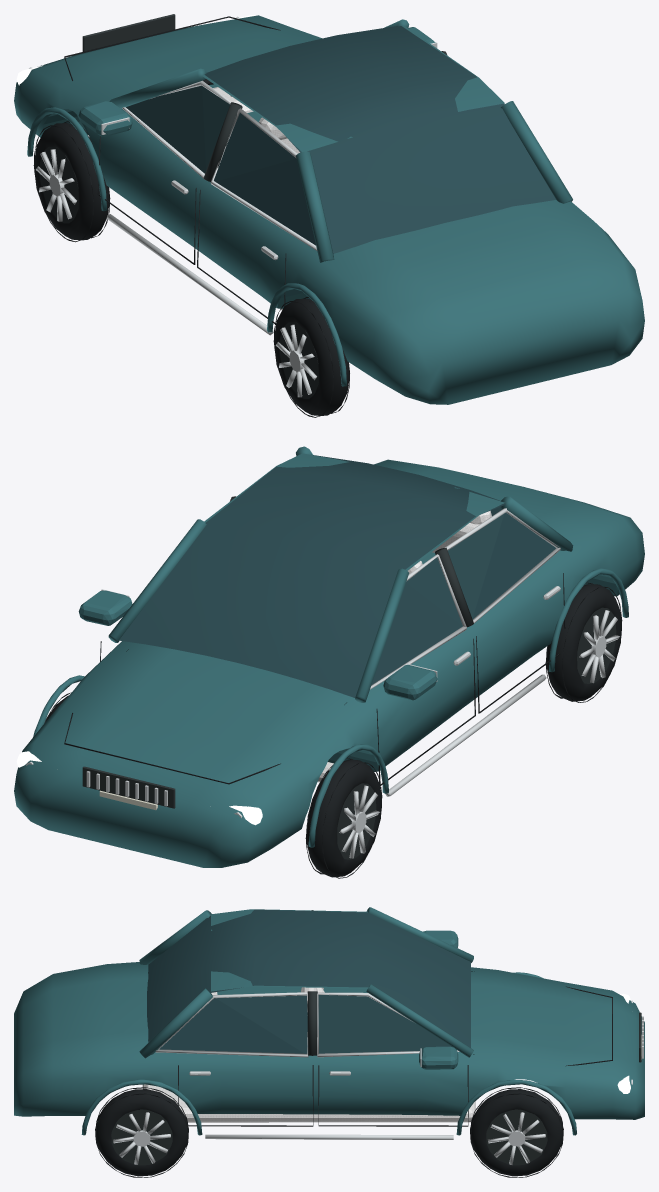
Rendered from sedan_lod1.glb.
3 renders of one model, top to bottom at view 1: azimuth 30°, elevation 25°; view 2: azimuth 150°, elevation 25°; view 3: azimuth 270°, elevation 25°, orthographic. The views are drawn at different scales.
Parts seen in each view (by area): view 1: sedan_body.001, wheel_rear_left.001, wheel_front_left.001; view 2: sedan_body.001, wheel_front_left.001, wheel_rear_left.001; view 3: sedan_body.001, wheel_front_right.001, wheel_rear_right.001.
Boxes of the visible parts, x1,y1,x2,y2 form: sedan_body.001: (14, 14, 644, 404); wheel_rear_left.001: (273, 297, 349, 417); wheel_front_left.001: (33, 121, 110, 242); sedan_body.001: (14, 446, 644, 867); wheel_front_left.001: (305, 758, 382, 878); wheel_rear_left.001: (545, 582, 622, 702); sedan_body.001: (14, 907, 644, 1139); wheel_front_right.001: (470, 1087, 563, 1177); wheel_rear_right.001: (95, 1087, 188, 1177).
Size of the model in its own units: 2.28 by 1.48 by 4.68.
Materials: 9 (1 with a texture image).
